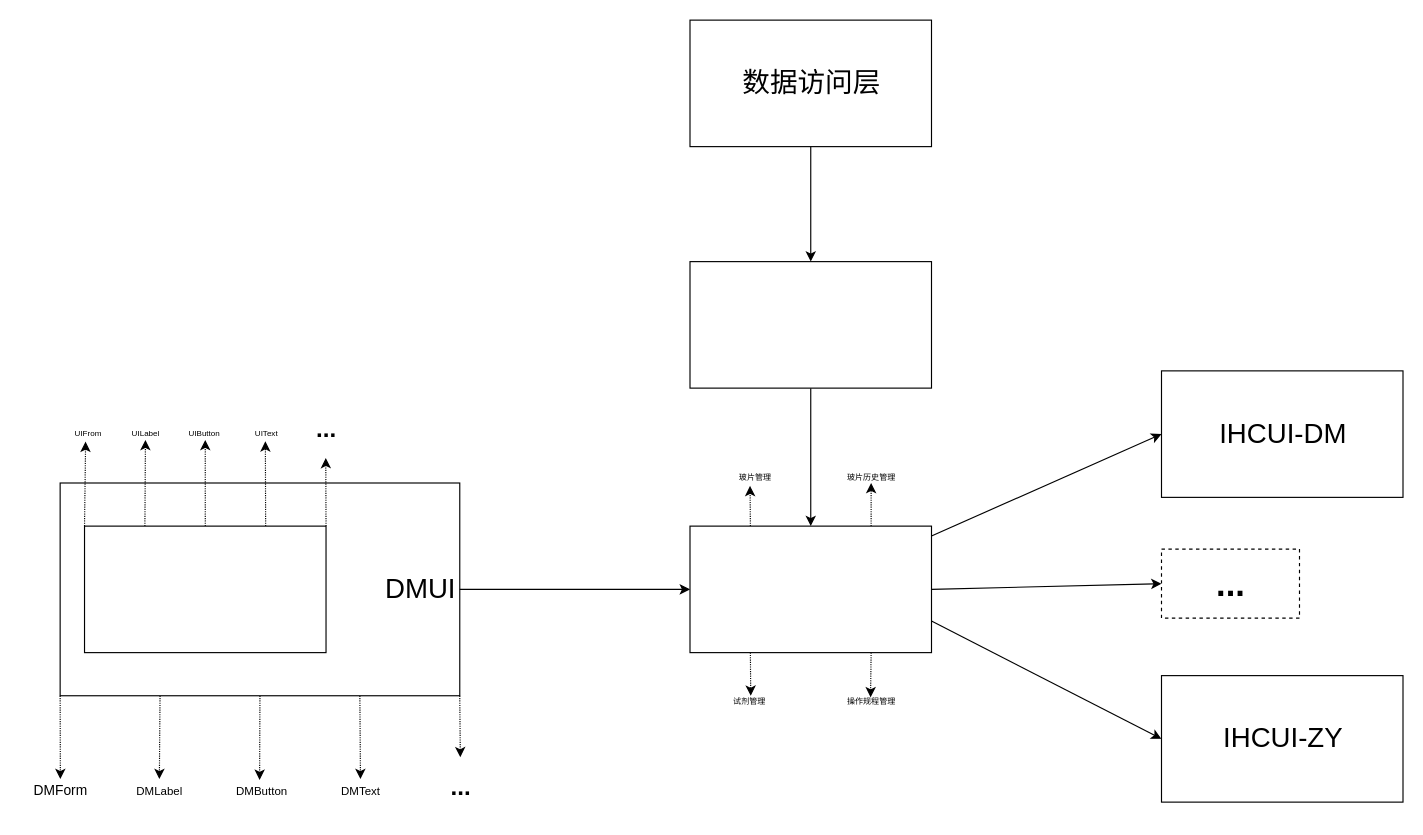
Image size: 1423x835. Some labels were removed from this diagram. The centre of each missing label's shape, as x and y in pixels:
"IHCUIService" goes at (810,589).
"SunnyUI" goes at (204,589).
"业务逻辑层" goes at (810,324).
